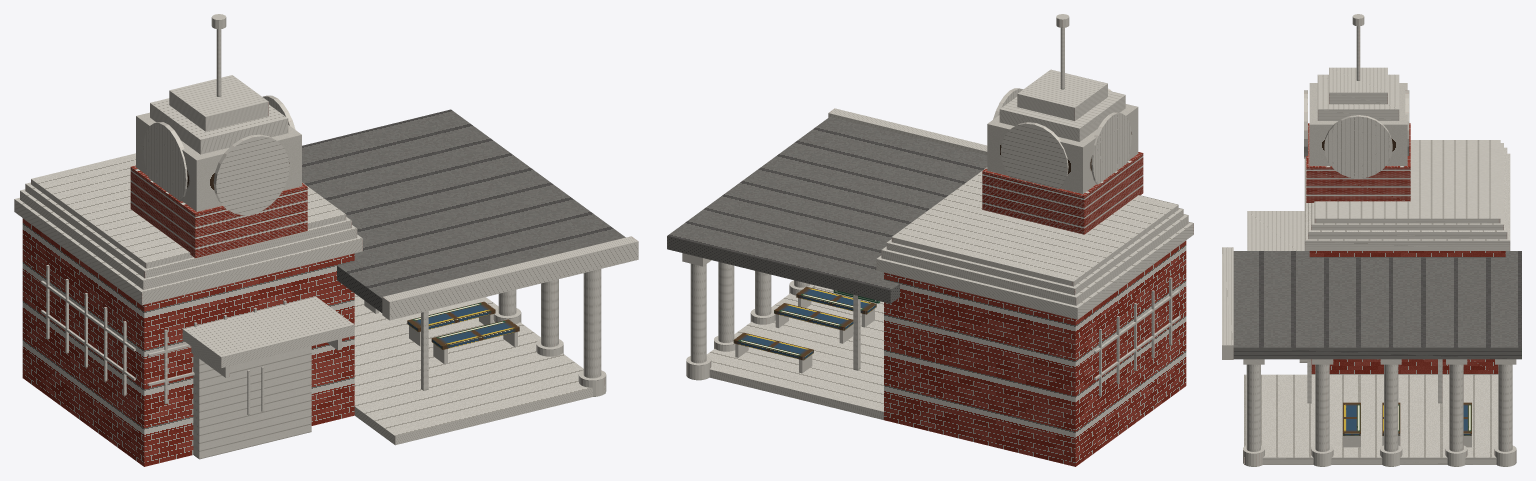
File: building_bus_station_var2_art_deco.glb
The picture shows the model from 3 angles, left to right: view 1: azimuth 30°, elevation 25°; view 2: azimuth 150°, elevation 25°; view 3: azimuth 270°, elevation 25°; orthographic projection. The views are drawn at different scales.
Parts seen in each view (by area): view 1: Building_Bus_Station_Var2_Art_Deco; view 2: Building_Bus_Station_Var2_Art_Deco; view 3: Building_Bus_Station_Var2_Art_Deco.
Boxes of the visible parts, x1=… form: Building_Bus_Station_Var2_Art_Deco: x1=14, y1=14, x2=638, y2=466; Building_Bus_Station_Var2_Art_Deco: x1=667, y1=14, x2=1193, y2=466; Building_Bus_Station_Var2_Art_Deco: x1=1222, y1=14, x2=1521, y2=466.
Bounding box in the file's own units: 12.7 × 10.95 × 9.18.
1 material, 1 textured.
